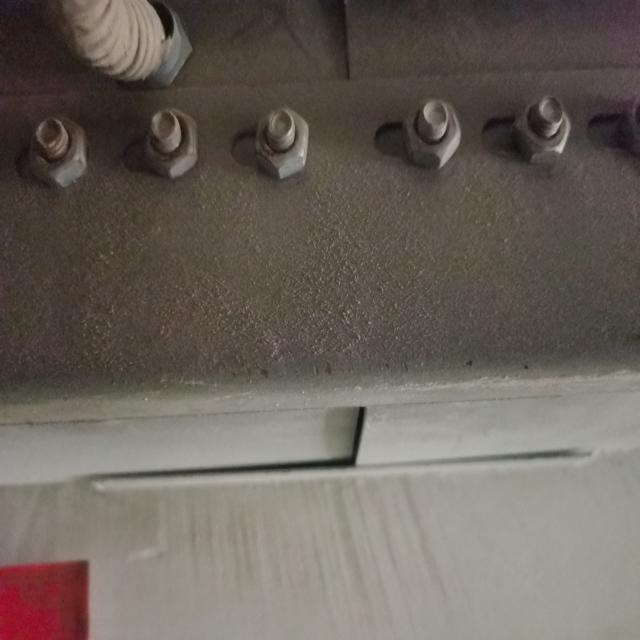bolt nut: (26, 112, 91, 192), (137, 102, 201, 182), (252, 104, 312, 183), (511, 93, 574, 168), (402, 94, 462, 172)
